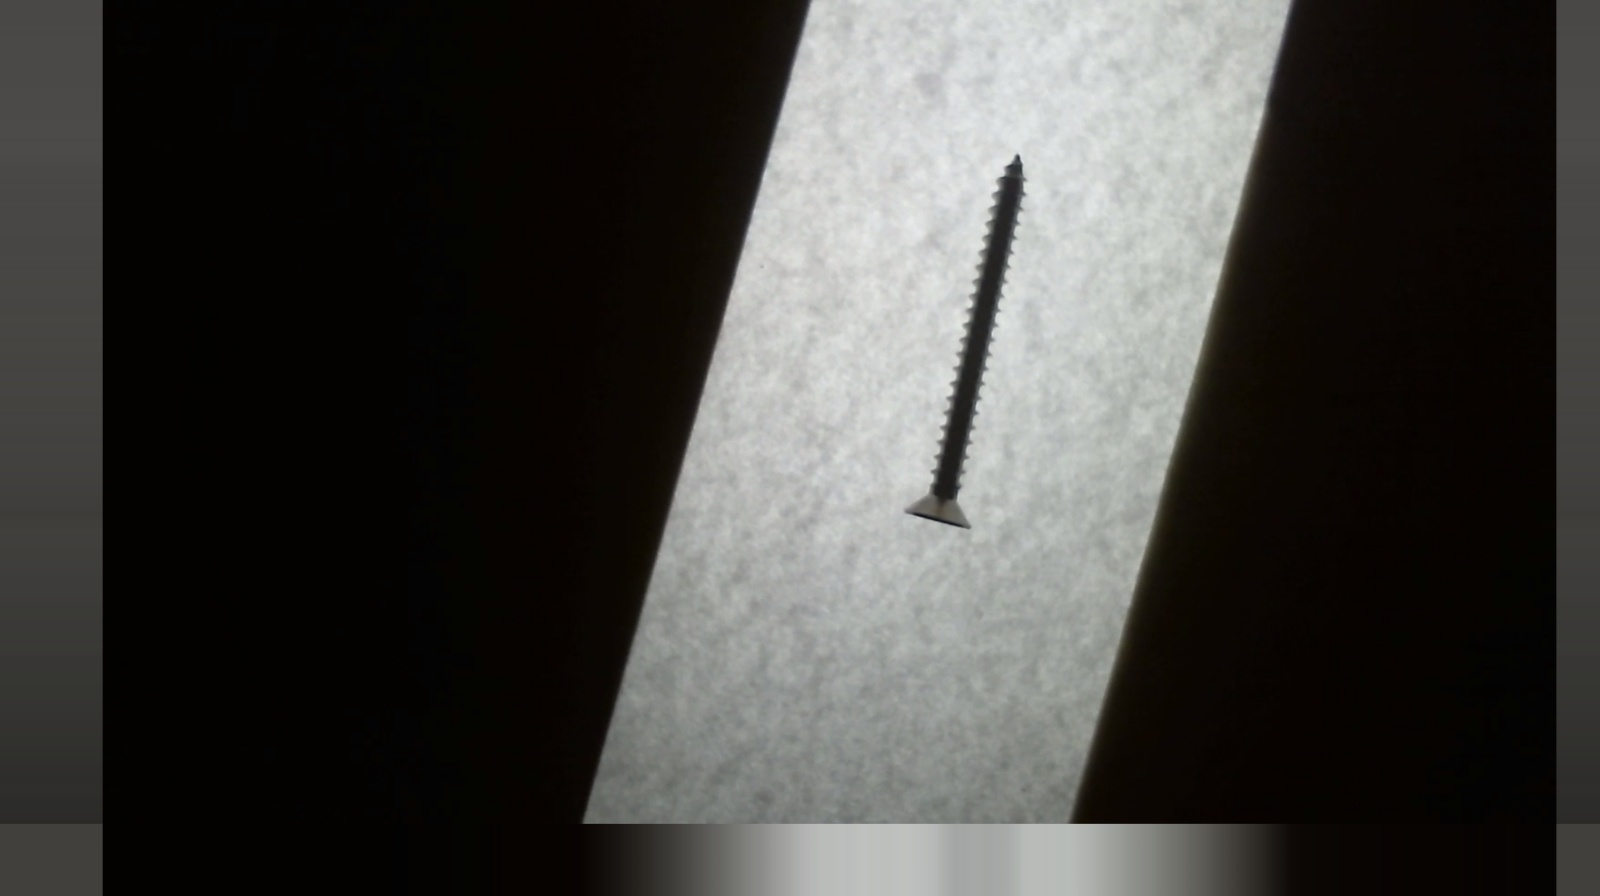S002: (893, 148, 1056, 537)
